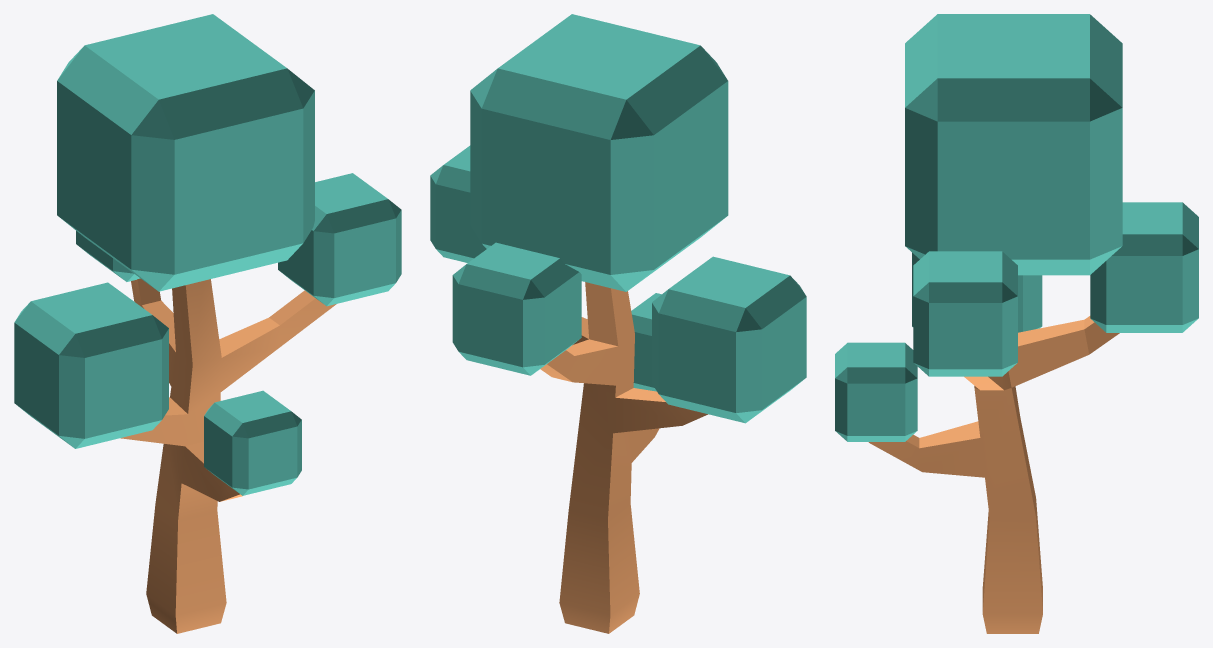
File: tree_detailed.obj
3 views of the same model, side by side, from view 1: azimuth 30°, elevation 25°; view 2: azimuth 150°, elevation 25°; view 3: azimuth 270°, elevation 25° (orthographic). The views are drawn at different scales.
Visible parts, largest first — view 1: tree_detailed; view 2: tree_detailed; view 3: tree_detailed.
Boxes of the visible parts, x1,y1,x2,y2 form: tree_detailed: (14, 14, 401, 633); tree_detailed: (430, 14, 806, 633); tree_detailed: (835, 14, 1198, 633).
Size of the model in its own units: 8.47 by 13.32 by 7.62.
